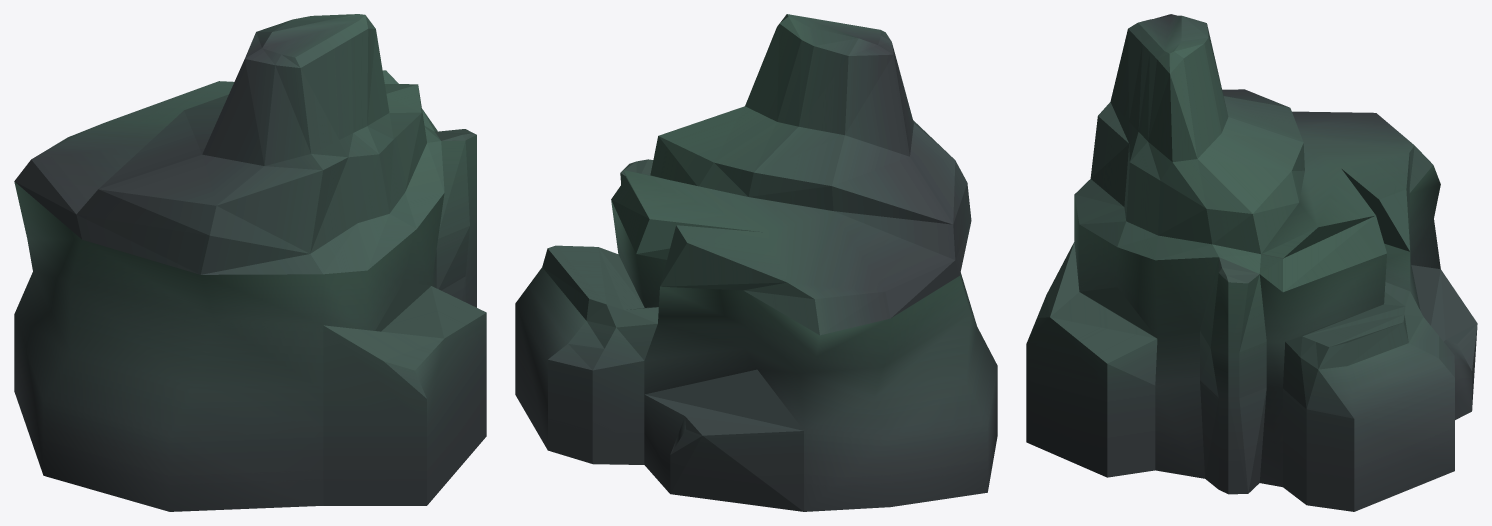
Rendered from ROCK.FBX.
3 renders of one model, left to right at view 1: azimuth 30°, elevation 25°; view 2: azimuth 150°, elevation 25°; view 3: azimuth 270°, elevation 25°, orthographic. The views are drawn at different scales.
Visible parts, largest first — view 1: Cylinder001; view 2: Cylinder001; view 3: Cylinder001.
Part boxes in pixels (<box>): Cylinder001: <box>14,14,486,511</box>; Cylinder001: <box>515,14,997,511</box>; Cylinder001: <box>1026,14,1477,511</box>.
Size of the model in its own units: 44.34 by 38.41 by 39.64.
1 material, 1 textured.
